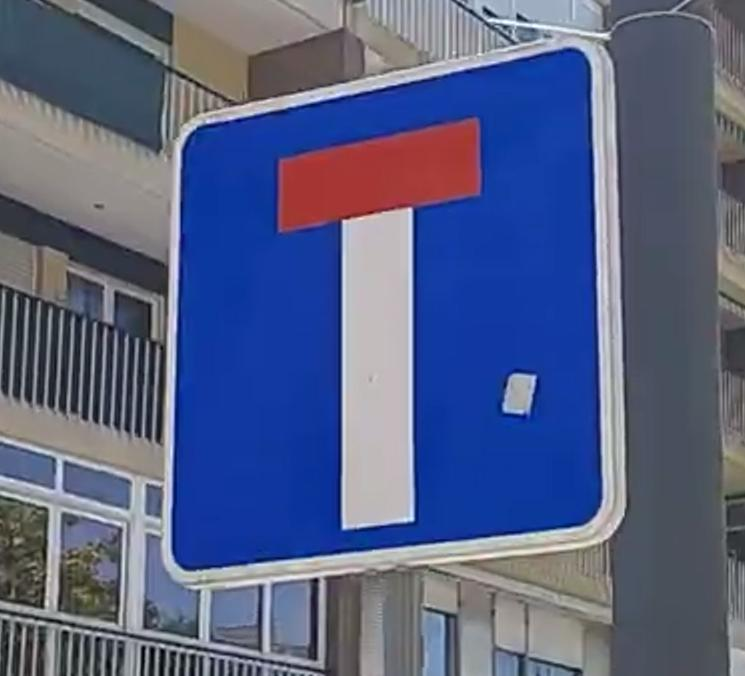via publica sem saida: (150, 37, 628, 595)
